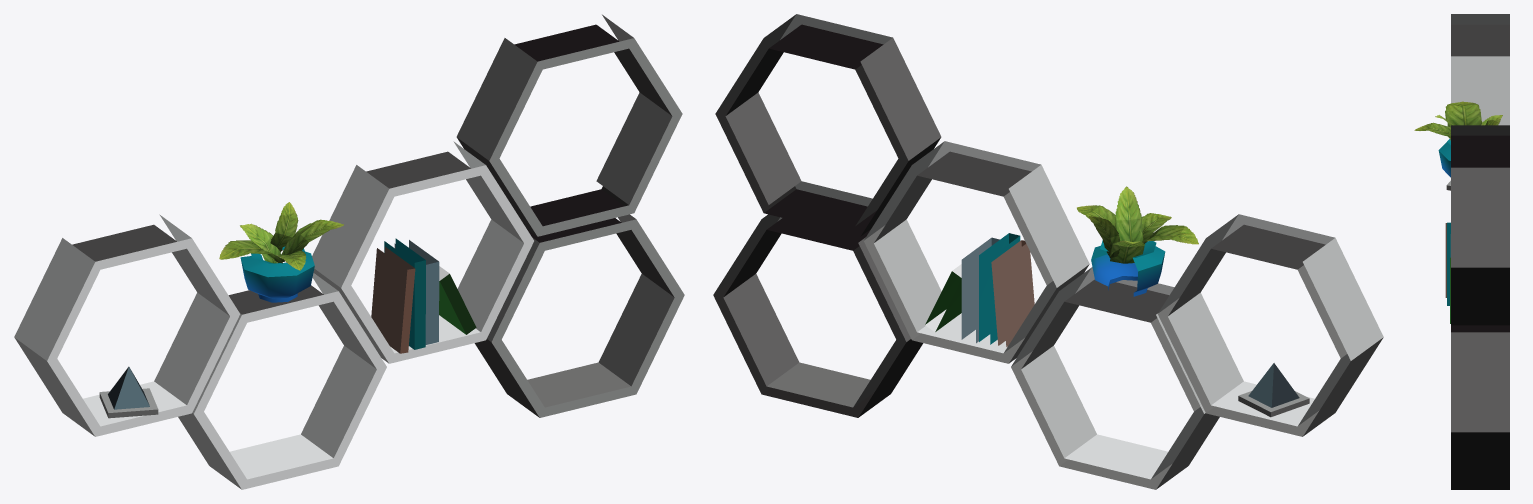
Rendered from M_zhuangshiqiang04.FBX.
The picture shows the model from 3 angles, left to right: view 1: azimuth 30°, elevation 25°; view 2: azimuth 150°, elevation 25°; view 3: azimuth 270°, elevation 25°; orthographic projection. The views are drawn at different scales.
Visible parts, largest first — view 1: M_zhuangshiqiang04_01, M_zhuangshiqiang04_02, M_zhuangshiqiang04_03; view 2: M_zhuangshiqiang04_01, M_zhuangshiqiang04_03, M_zhuangshiqiang04_02; view 3: M_zhuangshiqiang04_01, M_zhuangshiqiang04_03, M_zhuangshiqiang04_02.
Boxes of the visible parts, x1=… form: M_zhuangshiqiang04_01: x1=14, y1=14, x2=684, y2=489; M_zhuangshiqiang04_02: x1=108, y1=246, x2=314, y2=409; M_zhuangshiqiang04_03: x1=219, y1=202, x2=343, y2=270; M_zhuangshiqiang04_01: x1=713, y1=14, x2=1383, y2=489; M_zhuangshiqiang04_03: x1=1077, y1=186, x2=1198, y2=263; M_zhuangshiqiang04_02: x1=1091, y1=240, x2=1299, y2=407; M_zhuangshiqiang04_01: x1=1445, y1=14, x2=1509, y2=489; M_zhuangshiqiang04_03: x1=1414, y1=101, x2=1502, y2=140; M_zhuangshiqiang04_02: x1=1438, y1=139, x2=1450, y2=177.
Size of the model in its own units: 3.04 by 1.62 by 0.4861.
